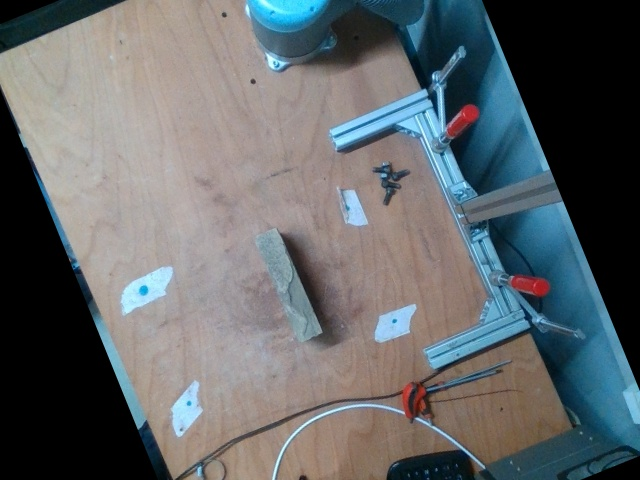brick-side: (254, 229, 320, 342)
